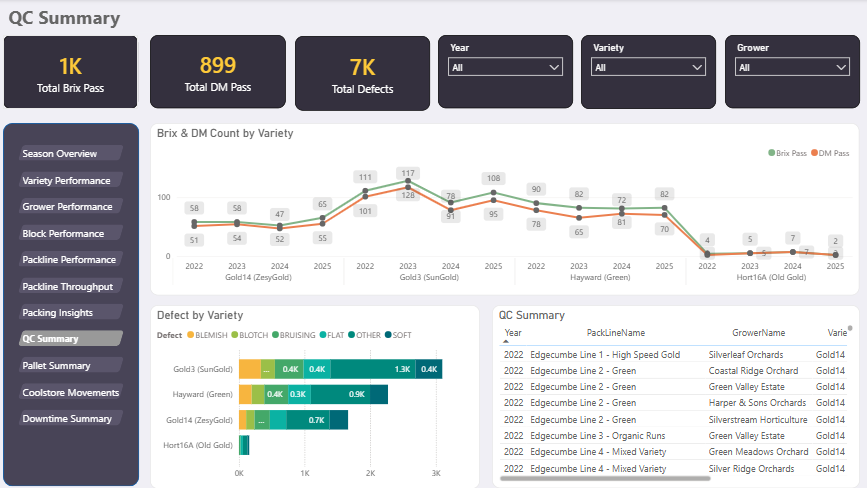

Layout of this report page (visuals, bound fields, positions):
{"tool":"powerbi","page":{"name":"QC Summary","canvas":[1280,720],"ordinal":7},"visuals":[{"type":"shape","box":[6,182.4,200.5,535.2],"z":0},{"type":"cardVisual","fields":{"Data":["Sum(view_QC_MaturityCompliance.BrixPass)"]},"box":[5.8,53.3,199,109],"z":1000},{"type":"cardVisual","fields":{"Data":["Sum(view_QC_MaturityCompliance.DMPass)"]},"box":[222.9,52.7,200.3,108.4],"z":2000},{"type":"cardVisual","fields":{"Data":["Sum(view_QC_DefectSummary.TotalDefects)"]},"box":[435.5,54.2,199,109.9],"z":3000},{"type":"barChart","title":"Defect by Variety","fields":{"Category":["view_QC_DefectHeatmap.VarietyName"],"Y":["Sum(view_QC_DefectHeatmap.TotalDefects)"],"Series":["view_QC_DefectHeatmap.DefectCode"]},"box":[222.9,450.3,486.4,271.1],"z":4000},{"type":"slicer","fields":{"Values":["view_QC_MaturityCompliance.FullDate.Variation.Date Hierarchy.Year"]},"box":[646.8,52.7,198.8,108.4],"z":5000},{"type":"lineChart","title":"Brix & DM Count by Variety","fields":{"Category":["view_QC_MaturityCompliance.VarietyName","view_QC_MaturityCompliance.FullDate.Variation.Date Hierarchy.Year"],"Y":["Sum(view_QC_MaturityCompliance.BrixPass)","Sum(view_QC_MaturityCompliance.DMPass)"]},"box":[222.9,182.2,1045.1,254.5],"z":6000},{"type":"tableEx","title":"QC Summary","fields":{"Values":["view_QC_PassFail.FullDate.Variation.Date Hierarchy.Year","view_QC_PassFail.PackLineName","view_QC_PassFail.GrowerName","view_QC_PassFail.VarietyName","view_QC_PassFail.BlockCode","Sum(view_QC_PassFail.SampleNumber)","Sum(view_QC_PassFail.TotalDefects)"]},"box":[725.8,450.3,542.1,269.6],"z":7000},{"type":"slicer","fields":{"Values":["view_QC_MaturityCompliance.VarietyName"]},"box":[857.9,52.7,199,109],"z":8000},{"type":"slicer","fields":{"Values":["view_QC_PassFail.GrowerName"]},"box":[1069.2,52.7,198.8,108.4],"z":9000},{"type":"pageNavigator","box":[27.4,214.6,157,420.5],"z":10000},{"type":"textbox","box":[8.8,2.9,290.2,47.1],"z":10001}]}

Visuals, with their boxes on the page's 1280x720 design canvas (x1, y1, x2, y2). These are canvas units, not pixel positions in the 867x488 screenshot, which may show the page scaled, cropped or inside an application window:
shape: x1=6 y1=182 x2=206 y2=718
cardVisual - Sum(view_QC_MaturityCompliance.BrixPass): x1=6 y1=53 x2=205 y2=162
cardVisual - Sum(view_QC_MaturityCompliance.DMPass): x1=223 y1=53 x2=423 y2=161
cardVisual - Sum(view_QC_DefectSummary.TotalDefects): x1=436 y1=54 x2=634 y2=164
"Defect by Variety" barChart: x1=223 y1=450 x2=709 y2=721
slicer - view_QC_MaturityCompliance.FullDate.Variation.Date Hierarchy.Year: x1=647 y1=53 x2=846 y2=161
"Brix & DM Count by Variety" lineChart: x1=223 y1=182 x2=1268 y2=437
"QC Summary" tableEx: x1=726 y1=450 x2=1268 y2=720
slicer - view_QC_MaturityCompliance.VarietyName: x1=858 y1=53 x2=1057 y2=162
slicer - view_QC_PassFail.GrowerName: x1=1069 y1=53 x2=1268 y2=161
pageNavigator: x1=27 y1=215 x2=184 y2=635
textbox: x1=9 y1=3 x2=299 y2=50
